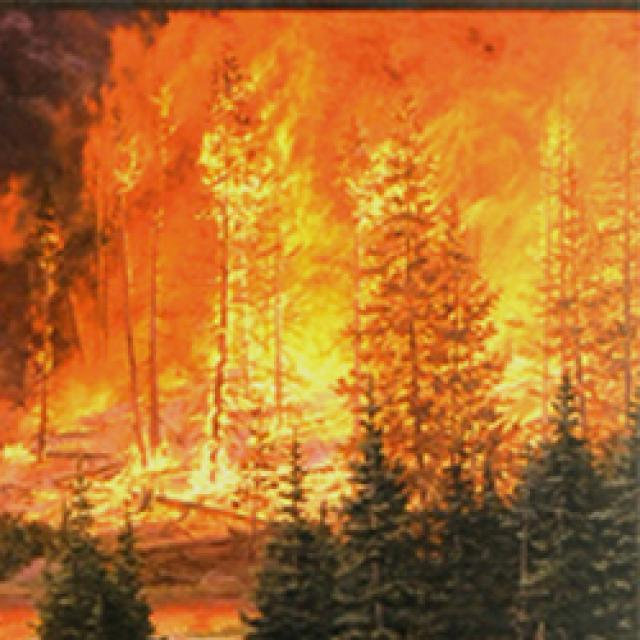Fire: (0, 7, 640, 520), (137, 603, 256, 640), (0, 589, 38, 640)
